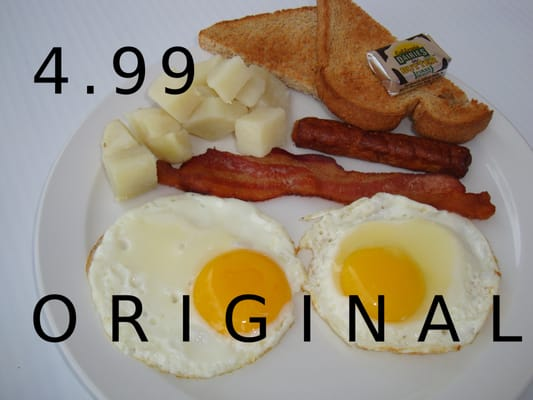soup: (196, 0, 498, 139)
